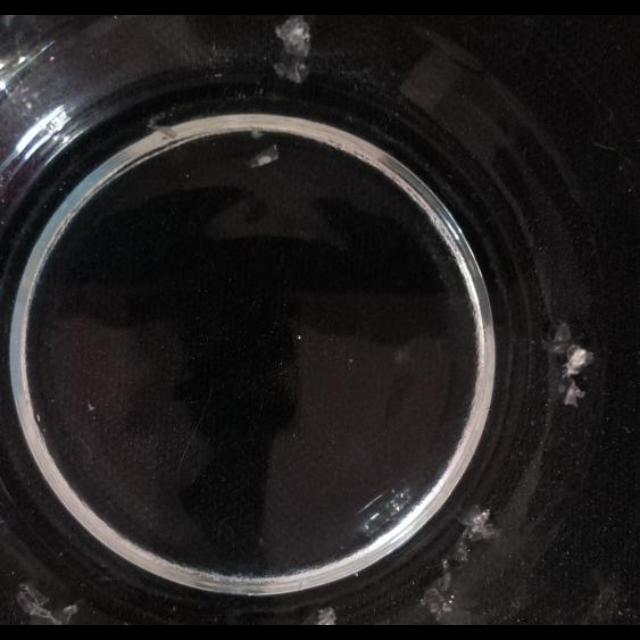Fibre: (418, 511, 500, 624), (544, 321, 594, 403), (272, 17, 312, 84), (16, 582, 76, 624), (456, 504, 500, 550), (420, 578, 456, 622), (247, 145, 279, 169), (310, 606, 338, 626), (150, 120, 178, 140), (250, 129, 266, 139)
